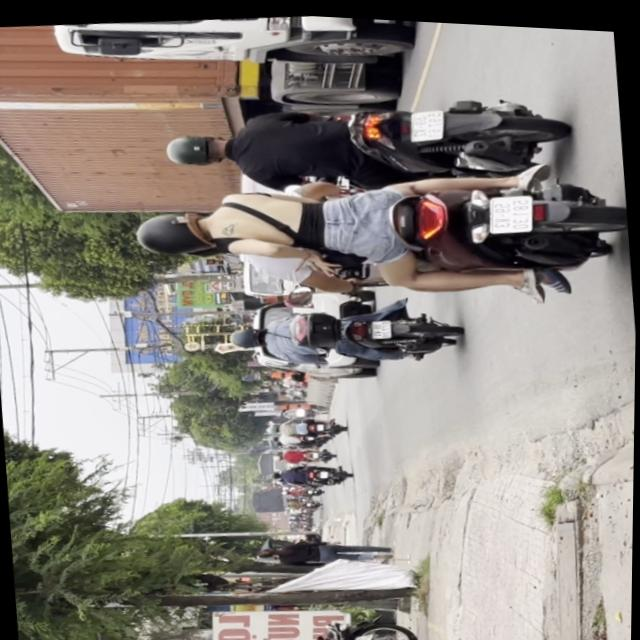helmet: (130, 204, 217, 258), (160, 125, 230, 168), (227, 322, 264, 346)
licenseplate: (124, 141, 634, 334), (156, 68, 574, 211), (221, 285, 463, 376)
nohelmet: (486, 188, 533, 230), (408, 103, 443, 139), (370, 315, 392, 334)
